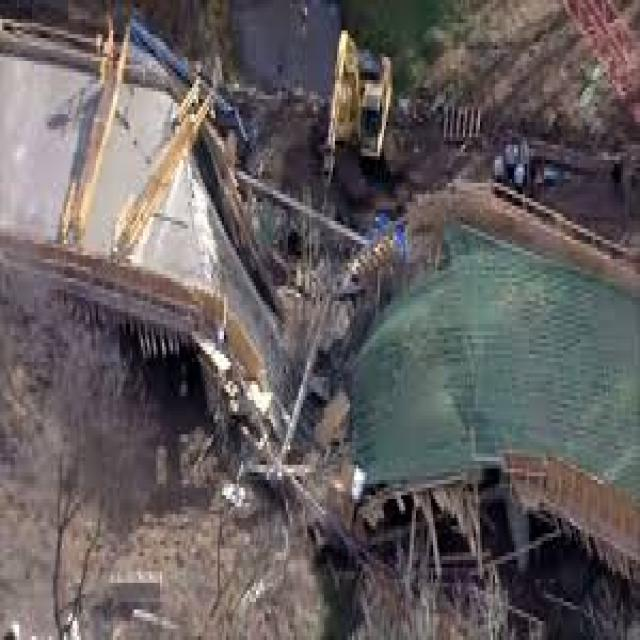bridge collapse: (75, 30, 577, 585)
